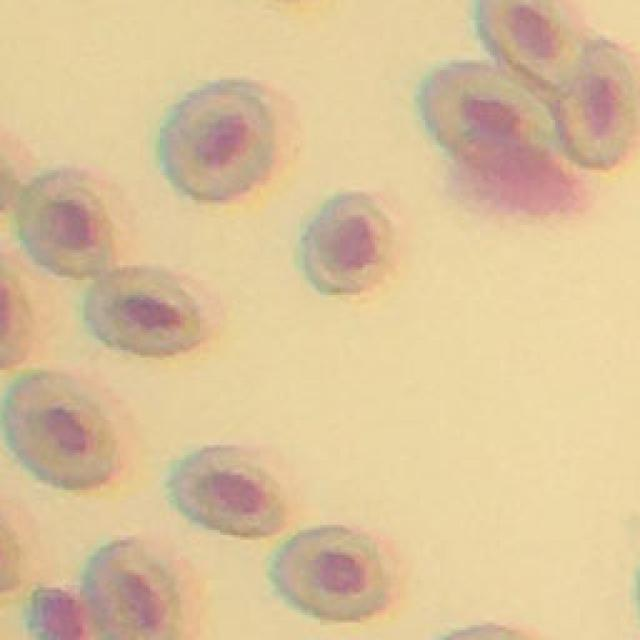RBC: (2, 372, 124, 490), (162, 80, 278, 200), (16, 167, 133, 279), (85, 268, 222, 358), (425, 62, 558, 151), (170, 448, 292, 540), (552, 40, 639, 168), (275, 528, 393, 622), (82, 542, 186, 639), (480, 0, 582, 92), (305, 192, 395, 296)
WBC: (460, 140, 588, 214), (30, 590, 90, 640)
